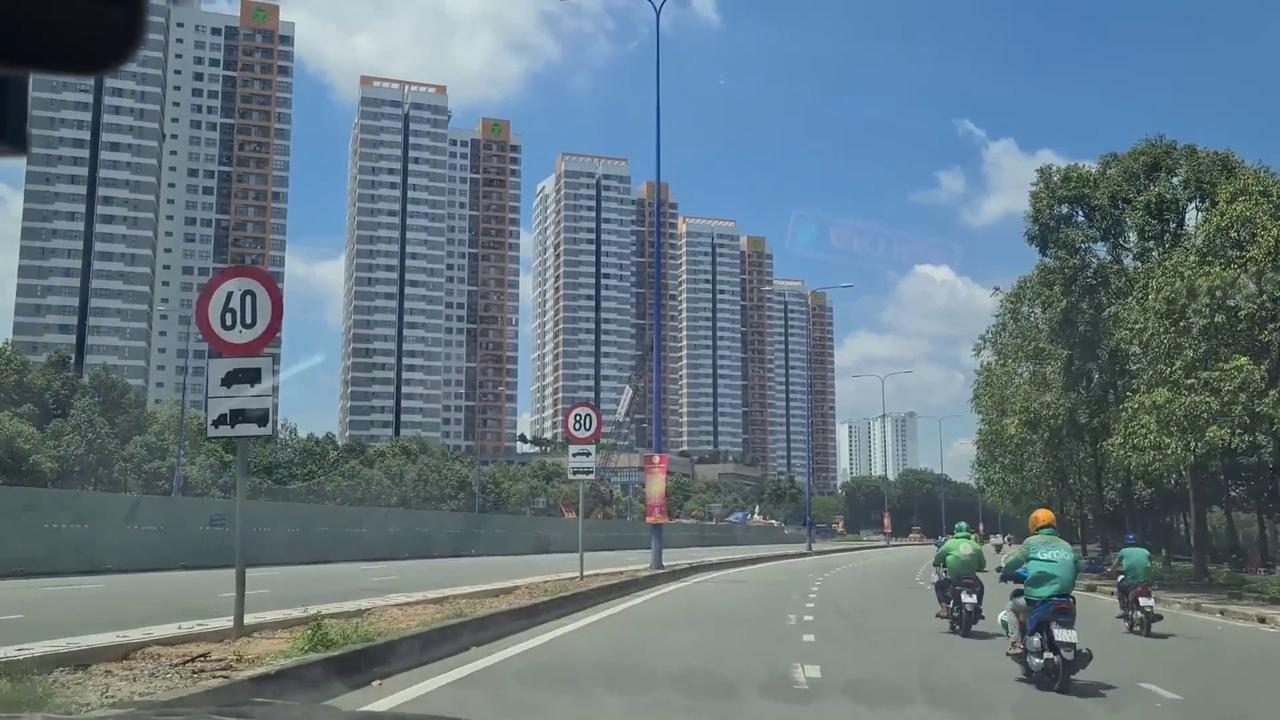Biển phụ: (203, 356, 275, 439), (567, 443, 596, 480)
GIơi hạn tốc độ 60Km/h: (194, 264, 283, 357)
Giới hạn tốc độ 80Km/h: (562, 400, 602, 444)
